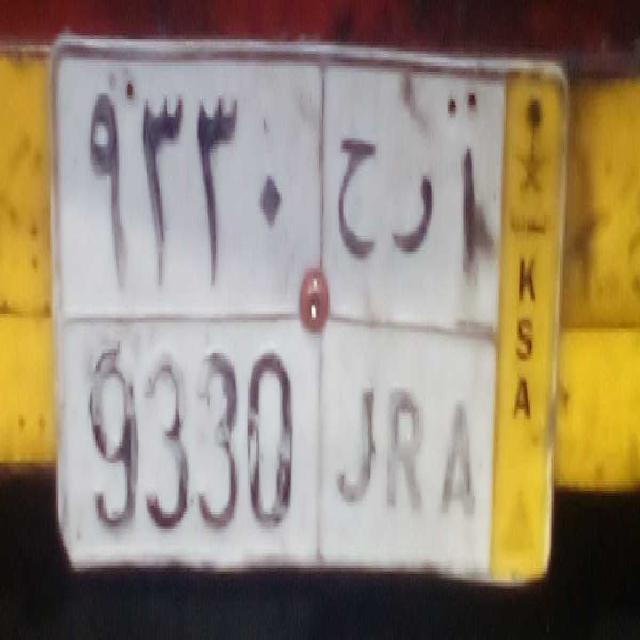license_plate: (58, 310, 492, 582)
